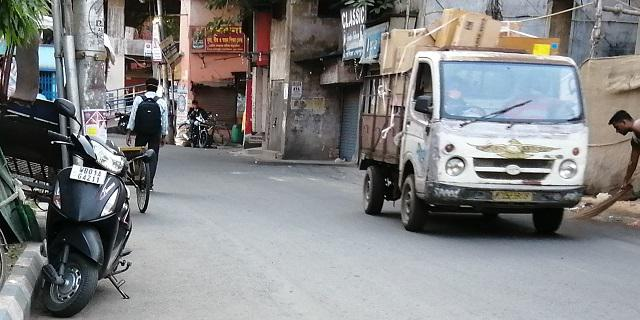Minitruck: (351, 38, 592, 242)
Motorbike: (37, 95, 136, 317)
